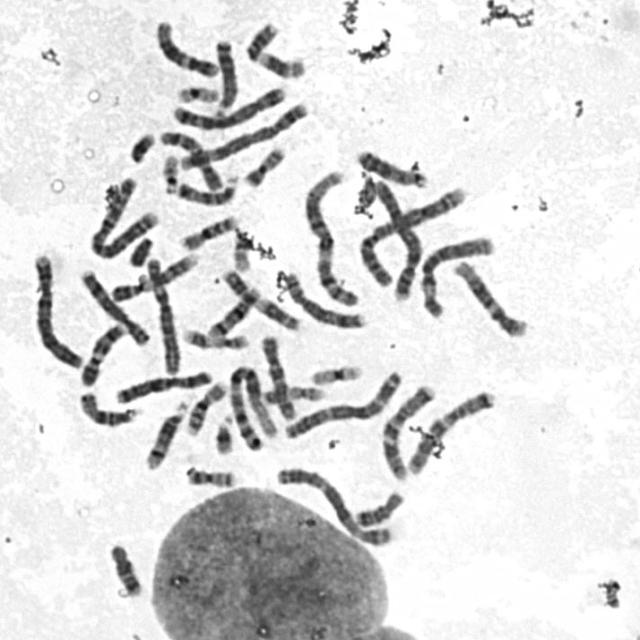A1: (300, 166, 362, 310), (223, 360, 279, 450)
A2: (357, 183, 469, 289), (87, 174, 158, 261)
A3: (272, 462, 397, 549), (281, 365, 405, 441)
B4: (26, 248, 85, 370), (368, 177, 424, 301)
B5: (172, 95, 311, 171), (168, 82, 288, 131)
C10: (156, 126, 225, 192), (256, 331, 298, 422)
C11: (219, 264, 304, 332), (242, 17, 309, 80)
C12: (449, 255, 532, 340), (152, 15, 222, 79)
C6: (415, 230, 497, 320), (142, 254, 183, 376)
C7: (403, 384, 500, 477), (373, 378, 439, 482)
C8: (76, 266, 152, 348), (280, 267, 368, 331)
C9: (106, 248, 200, 303), (76, 319, 128, 388)
D13: (352, 146, 430, 190), (212, 35, 240, 114)
D14: (142, 398, 190, 472), (204, 283, 264, 339)
D15: (75, 387, 142, 428), (173, 171, 240, 207)
E16: (182, 377, 229, 438), (176, 210, 241, 252)
E17: (177, 324, 252, 352), (257, 381, 327, 405)
E18: (105, 538, 145, 598), (351, 488, 406, 528)
F19: (306, 359, 366, 387), (172, 80, 222, 106)
F20: (240, 141, 289, 189), (181, 462, 239, 489)
G21: (125, 128, 157, 165), (212, 411, 236, 456)
G22: (228, 225, 254, 273), (158, 149, 182, 197)
X: (110, 365, 214, 405)
Y: (125, 233, 156, 268)
